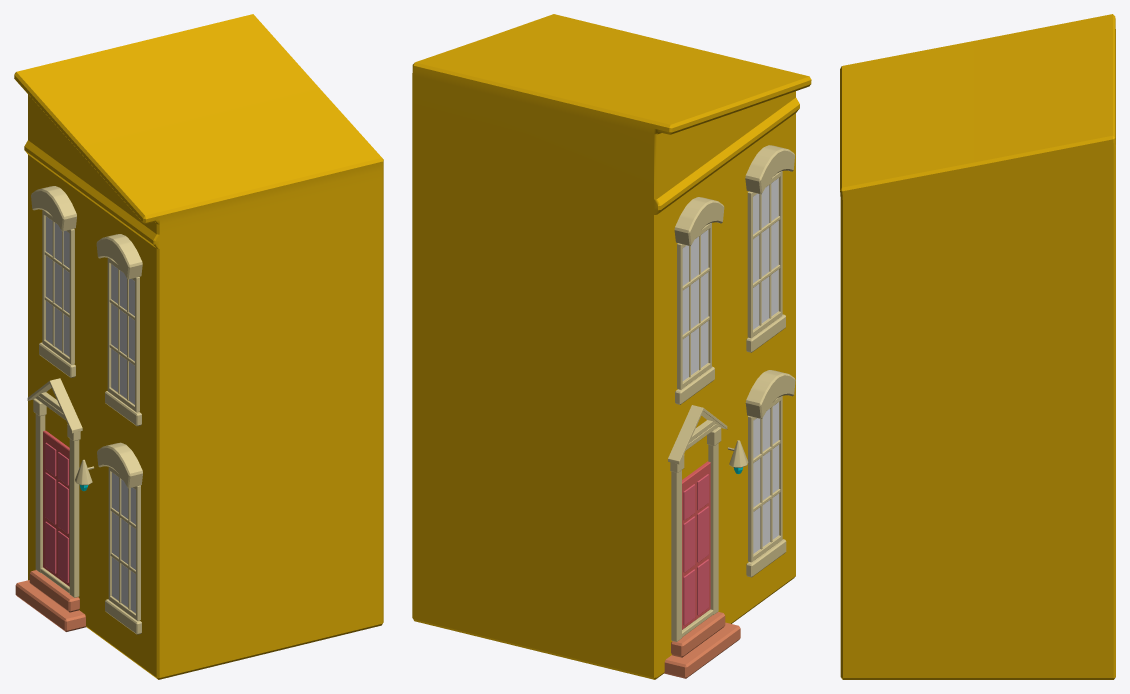
File: TimHouse2.fbx
3 renders of one model, left to right at view 1: azimuth 30°, elevation 25°; view 2: azimuth 150°, elevation 25°; view 3: azimuth 270°, elevation 25°, orthographic. The views are drawn at different scales.
Parts seen in each view (by area): view 1: polySurface162; view 2: polySurface162; view 3: polySurface162.
Boxes of the visible parts, box(x1,y1,x2,y2) form: polySurface162: box(14, 14, 383, 679); polySurface162: box(412, 14, 811, 679); polySurface162: box(840, 14, 1115, 679).
Size of the model in its own units: 5.51 by 11.03 by 5.07.
